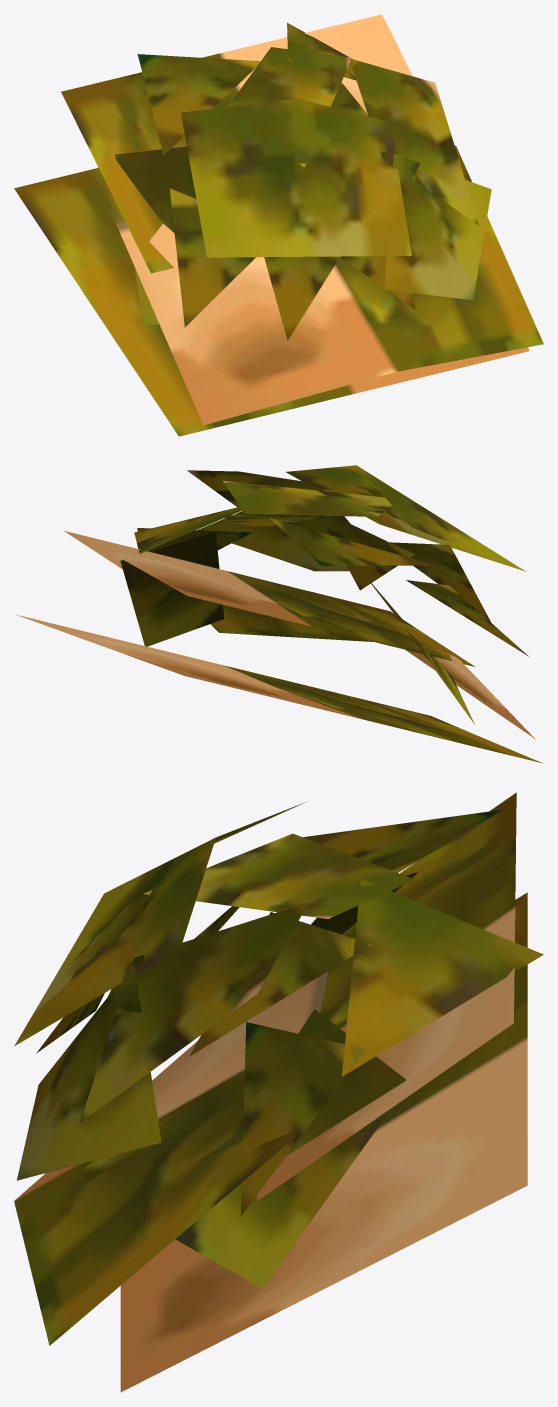
File: fg_bushD_2_ye.dae
3 views of the same model, one above another, from view 1: azimuth 30°, elevation 25°; view 2: azimuth 150°, elevation 25°; view 3: azimuth 270°, elevation 25° (orthographic). The views are drawn at different scales.
Visible parts, largest first — view 1: fg_bushD_2_ye; view 2: fg_bushD_2_ye; view 3: fg_bushD_2_ye.
Boxes of the visible parts, x1,y1,x2,y2 form: fg_bushD_2_ye: [14, 14, 543, 436]; fg_bushD_2_ye: [16, 465, 542, 763]; fg_bushD_2_ye: [14, 792, 543, 1392].
Size of the model in its own units: 47.83 by 31.26 by 36.53.
1 material, 1 textured.
